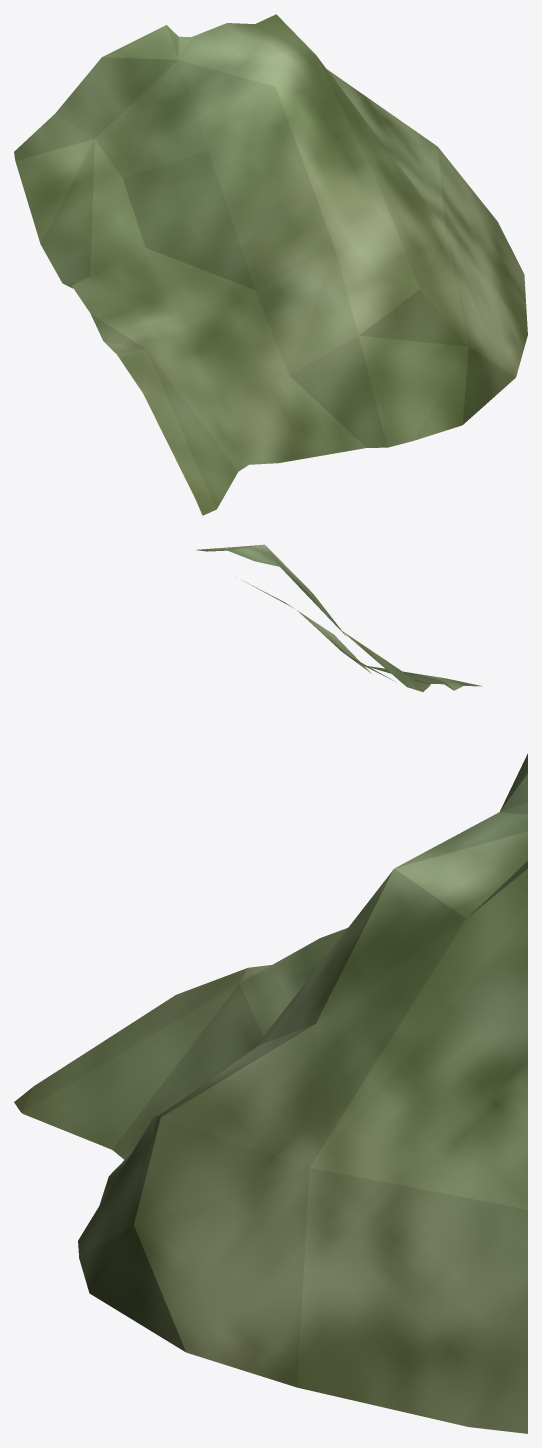
3 views of the same model, one above another, from view 1: azimuth 30°, elevation 25°; view 2: azimuth 150°, elevation 25°; view 3: azimuth 270°, elevation 25° (orthographic). The views are drawn at different scales.
Bounding box in the file's own units: 0.5915 × 0.3576 × 0.3872.
Materials: 1 (1 with a texture image).
